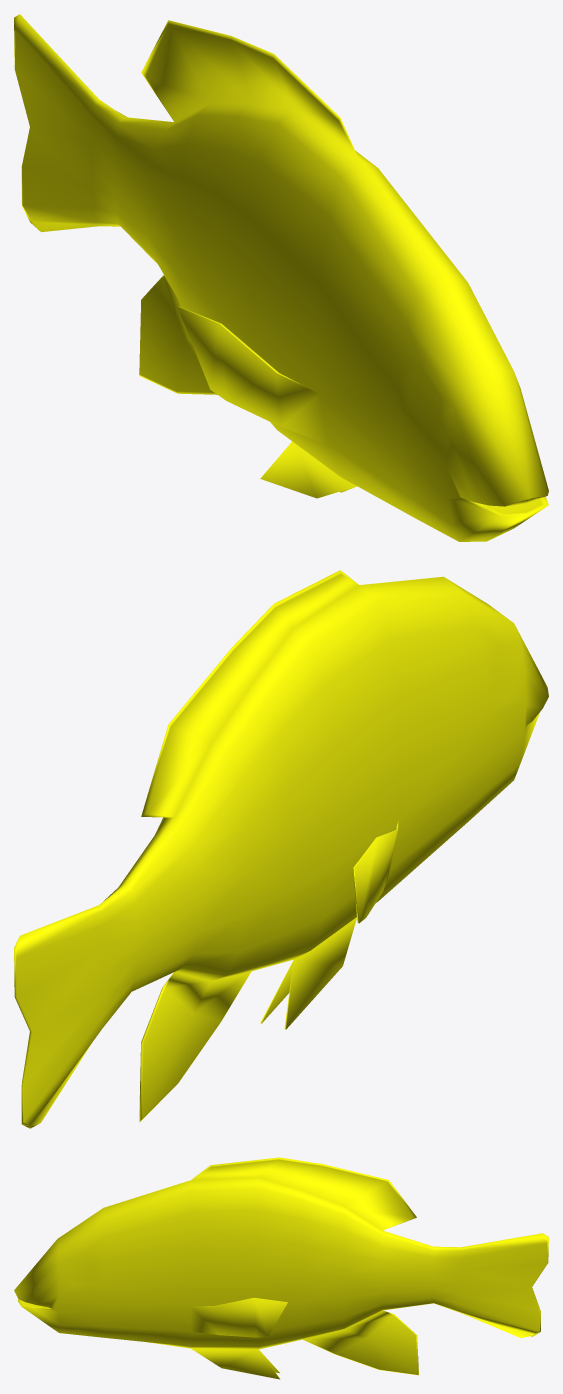
File: asset.glb
3 renders of one model, top to bottom at view 1: azimuth 30°, elevation 25°; view 2: azimuth 150°, elevation 25°; view 3: azimuth 270°, elevation 25°, orthographic. The views are drawn at different scales.
Parts seen in each view (by area): view 1: Bluegill; view 2: Bluegill; view 3: Bluegill.
Boxes of the visible parts, x1,y1,x2,y2 form: Bluegill: (14,14,548,541); Bluegill: (14,570,548,1128); Bluegill: (14,1157,548,1379).
Bounding box in the file's own units: 0.0297 × 0.0676 × 0.1498.
1 material, 1 textured.
